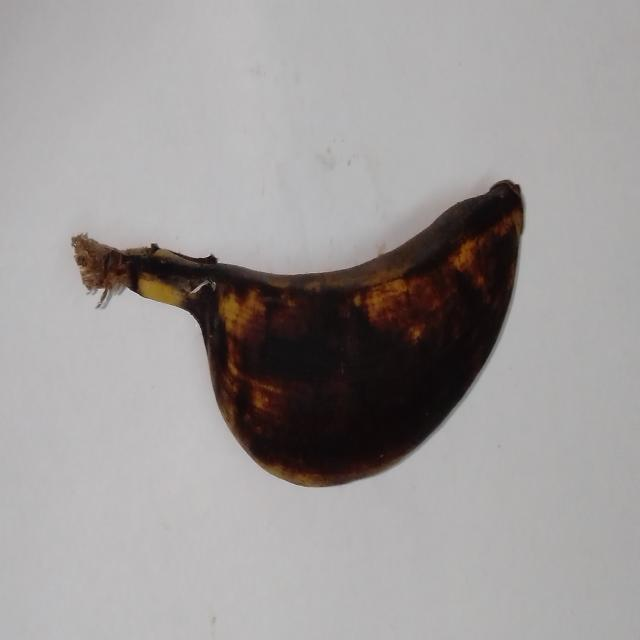banana: (73, 181, 523, 485)
